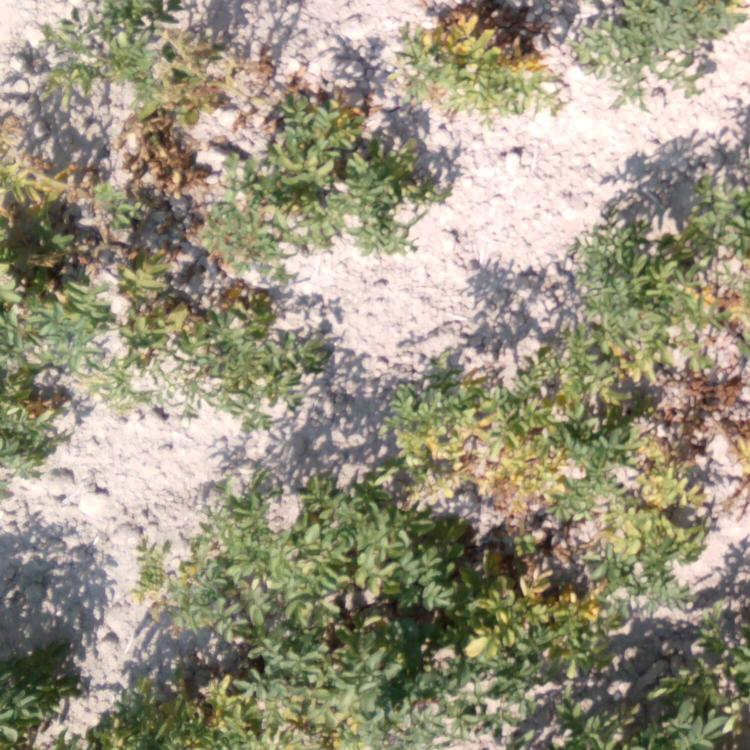healthy: (206, 482, 454, 655), (558, 2, 748, 83), (591, 646, 745, 742), (2, 653, 71, 744)
stressed: (249, 78, 408, 262), (5, 114, 82, 461), (89, 271, 280, 400), (116, 669, 415, 747), (598, 427, 715, 624), (635, 149, 747, 336), (473, 464, 568, 681), (385, 374, 590, 466), (47, 6, 215, 112), (116, 111, 232, 246), (415, 12, 538, 111), (613, 348, 747, 416)
